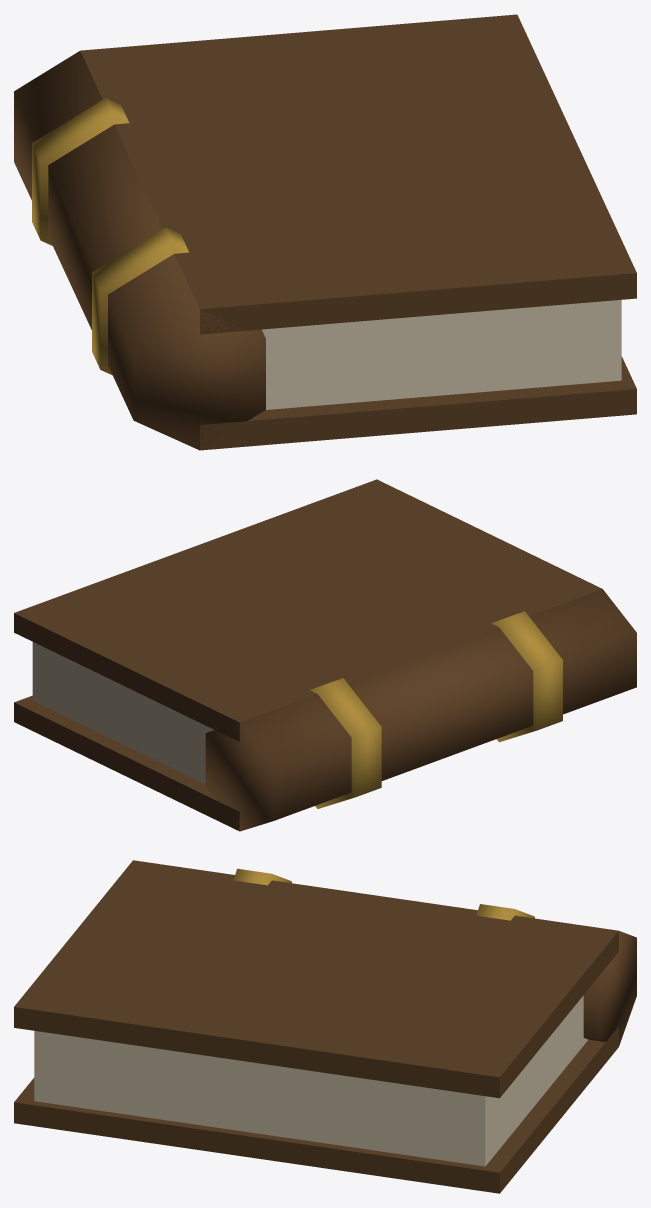
File: book_v3.glb
The picture shows the model from 3 angles, top to bottom: view 1: azimuth 30°, elevation 25°; view 2: azimuth 150°, elevation 25°; view 3: azimuth 270°, elevation 25°; orthographic projection. The views are drawn at different scales.
Parts seen in each view (by area): view 1: book_v3; view 2: book_v3; view 3: book_v3.
Boxes of the visible parts, <box> form: book_v3: <box>14,14,636,450</box>; book_v3: <box>14,479,636,831</box>; book_v3: <box>14,860,636,1193</box>.
Bounding box in the file's own units: 0.3087 × 0.078 × 0.3396.
